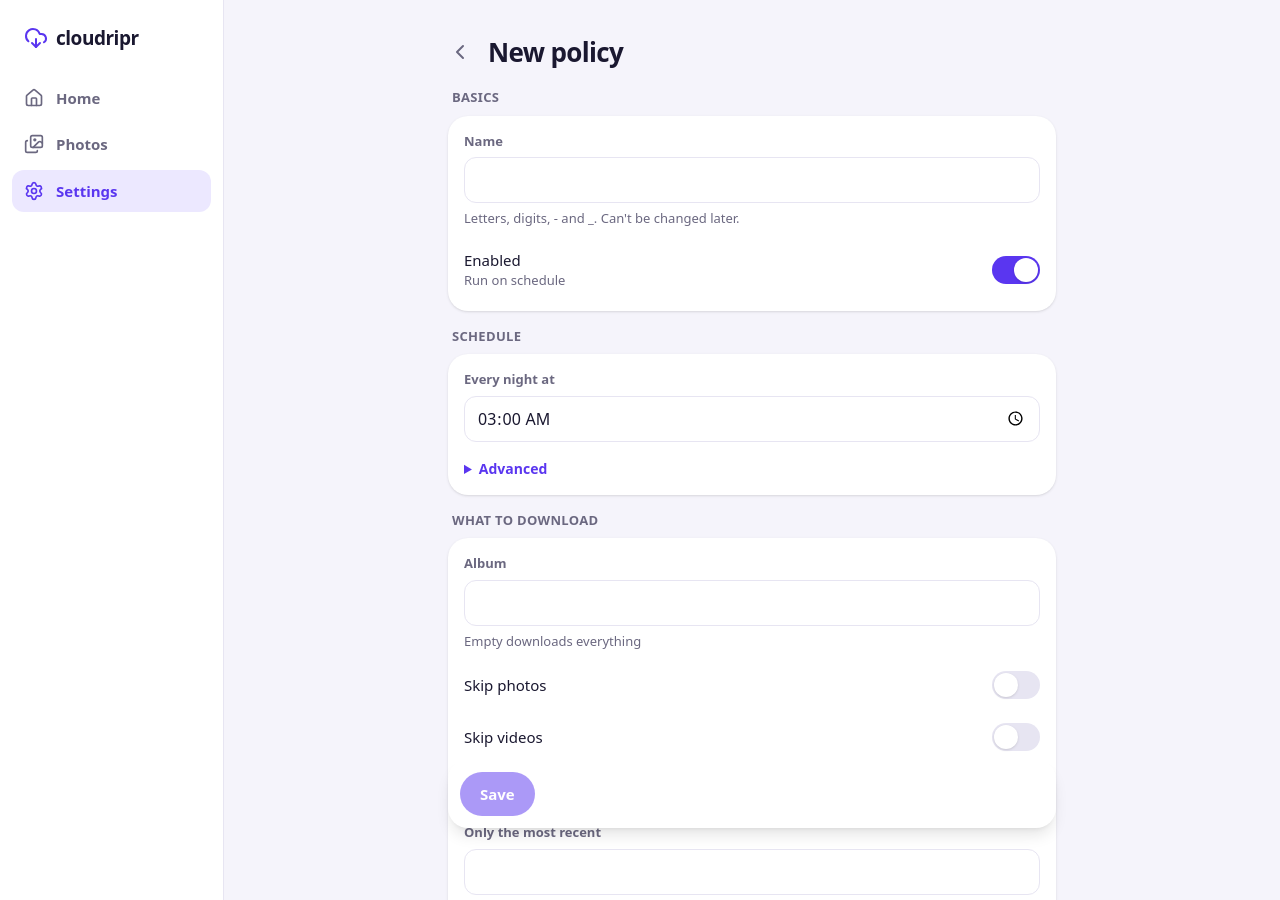
new policy starts from safe defaults
Type "family" into the field labelled "Name".
click(752, 180); type("family")  # box x1=464 y1=157 x2=1040 y2=203
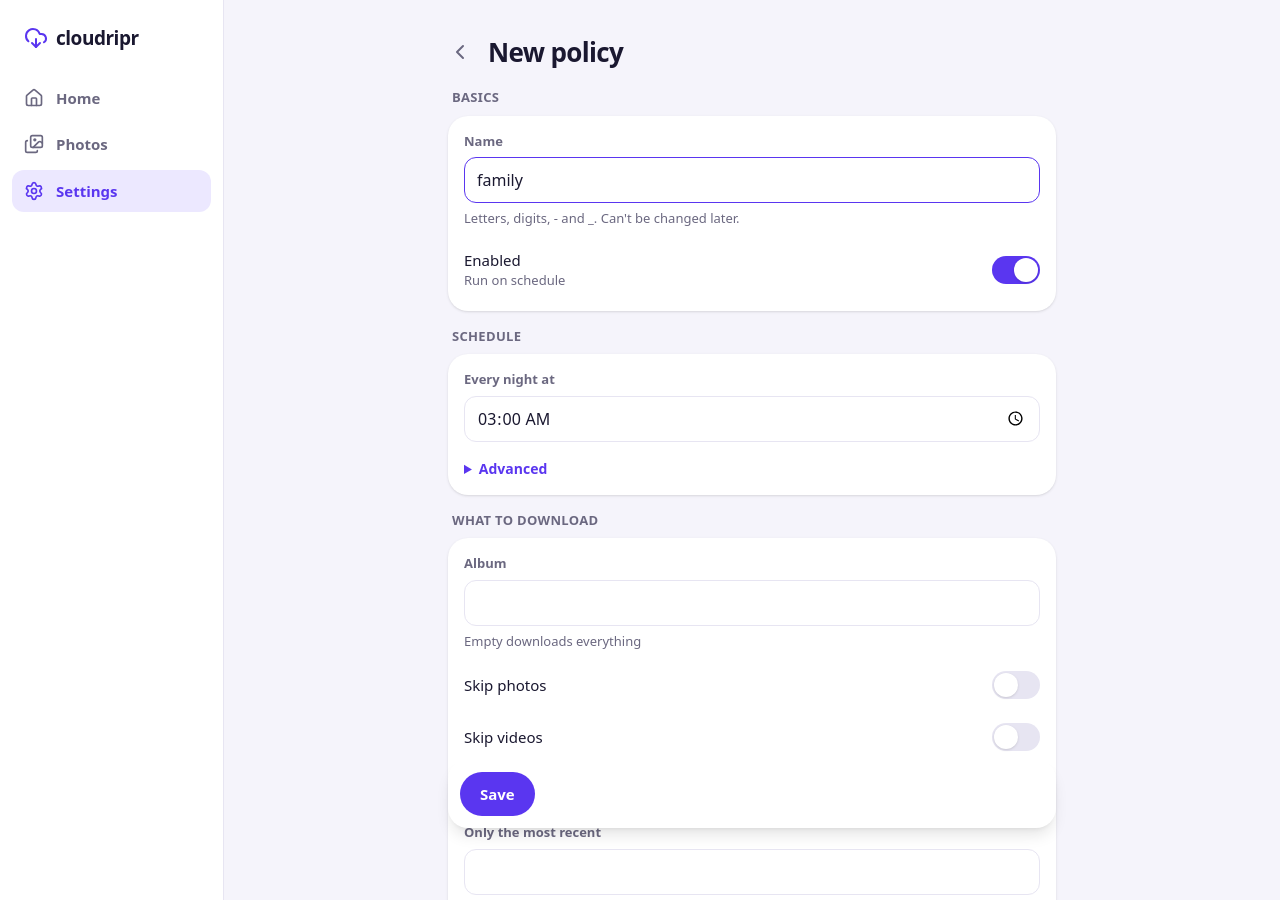
Click the button "Save".
click(497, 794)  # box x1=460 y1=772 x2=535 y2=816
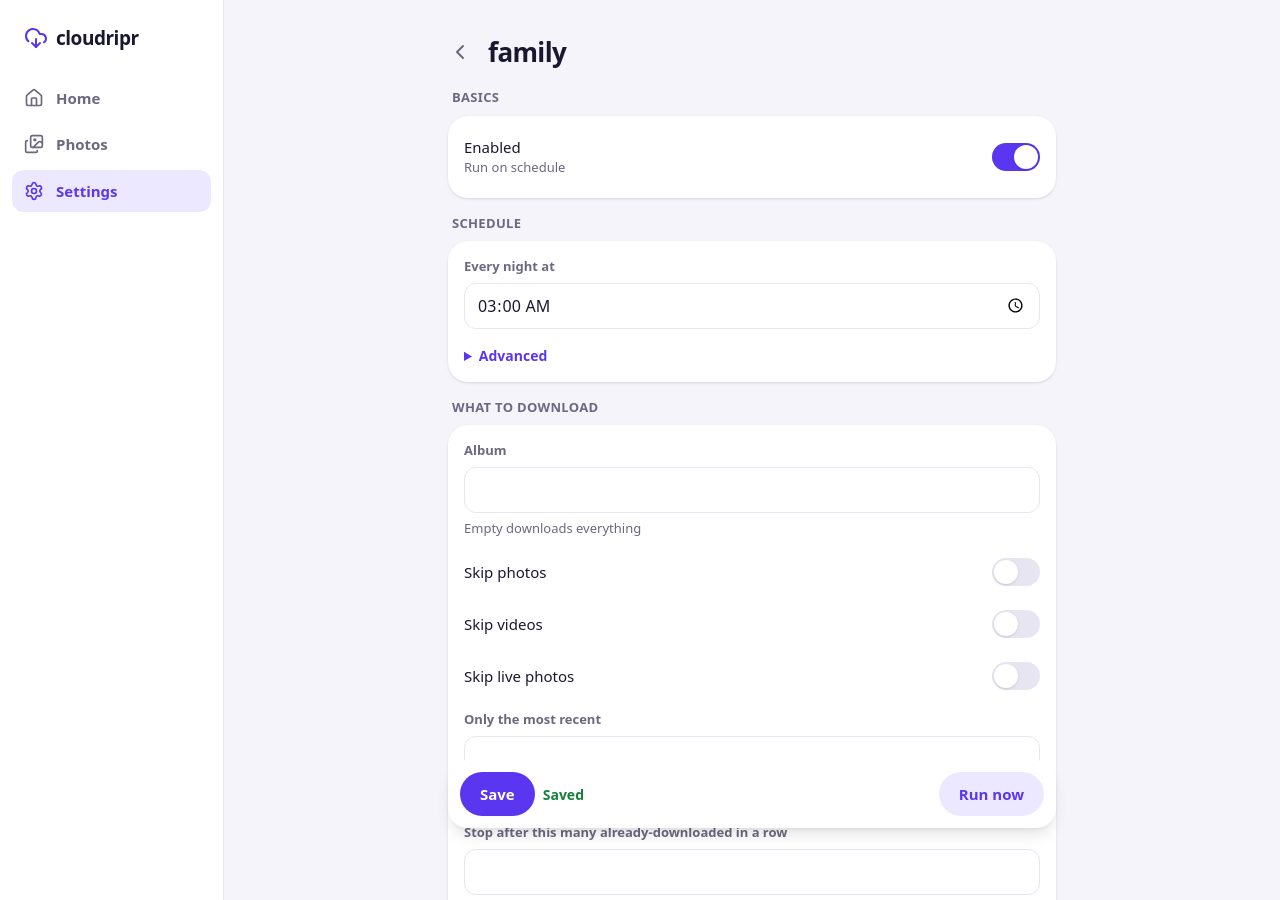
Expected: the text "Saved" is shown, x1=543 y1=784 x2=584 y2=804
